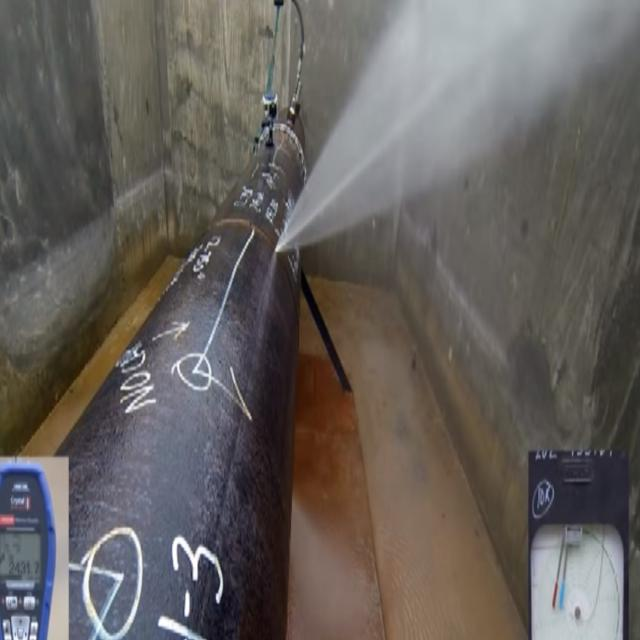leak: (279, 2, 640, 250)
